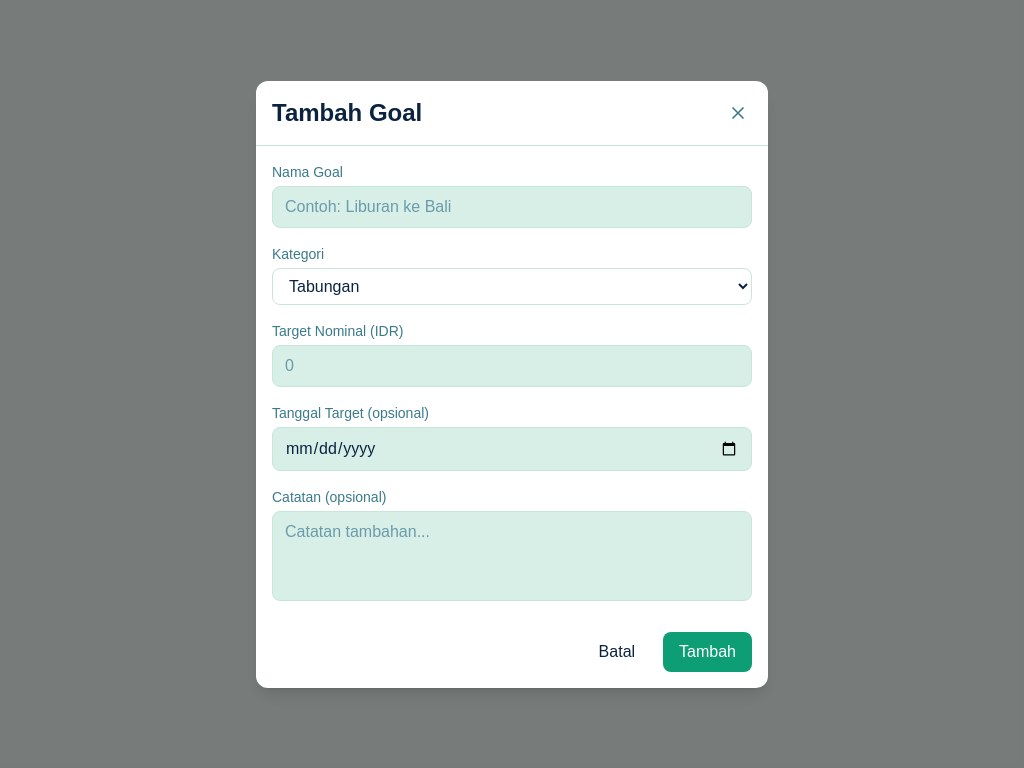
it: GoalForm › shows error when target_date is in the past
Step 1. Type "Test Goal" into the field labelled "Nama Goal" → point(512, 206), box [272,186,752,228]
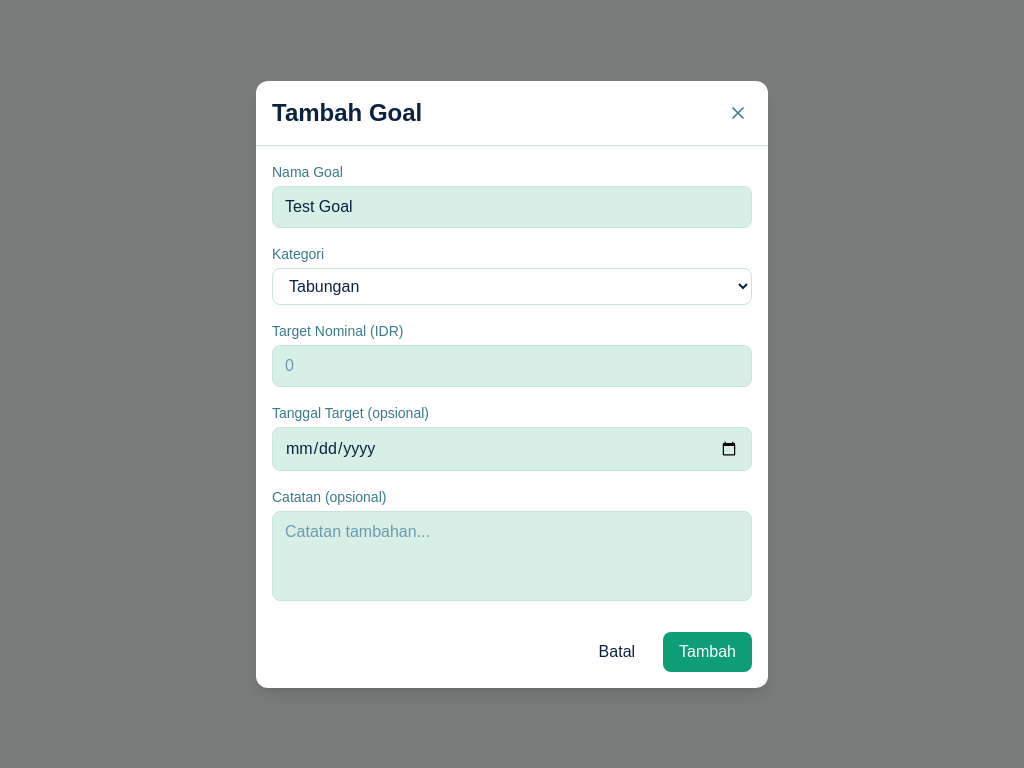
Step 2. Type "1000000" into the number field labelled "Target Nominal (IDR)" → point(512, 366), box [272,344,752,386]
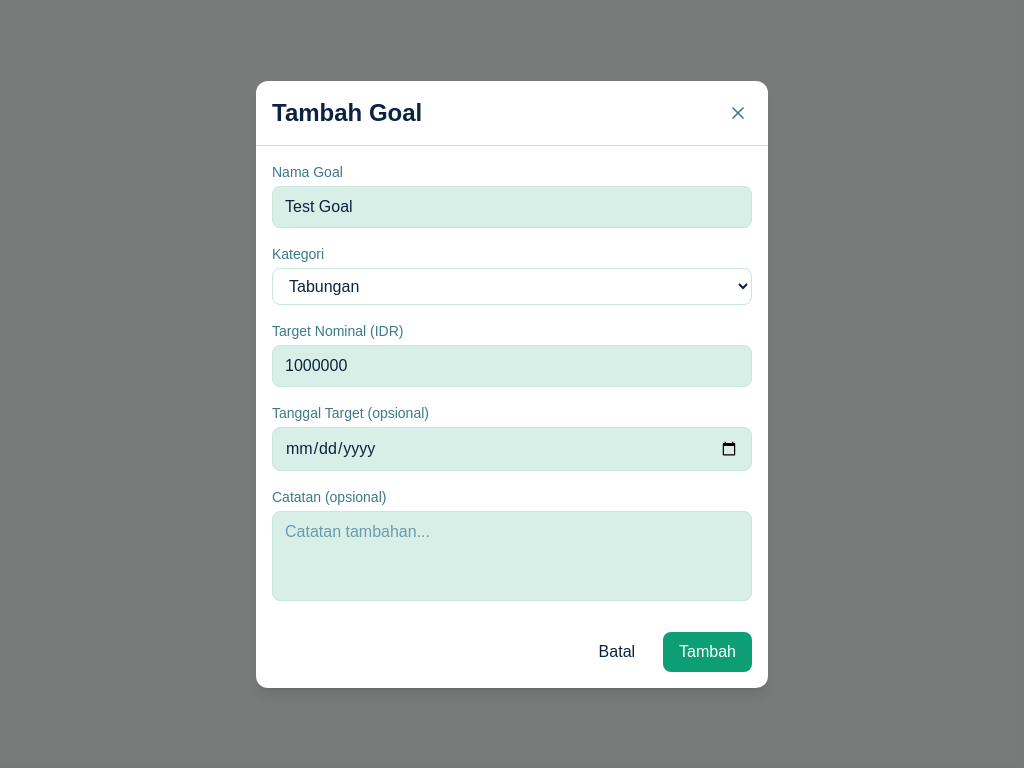
Step 3. Type "2020-01-01" into the date field labelled "Tanggal Target (opsional)" → point(512, 448), box [272,426,752,470]
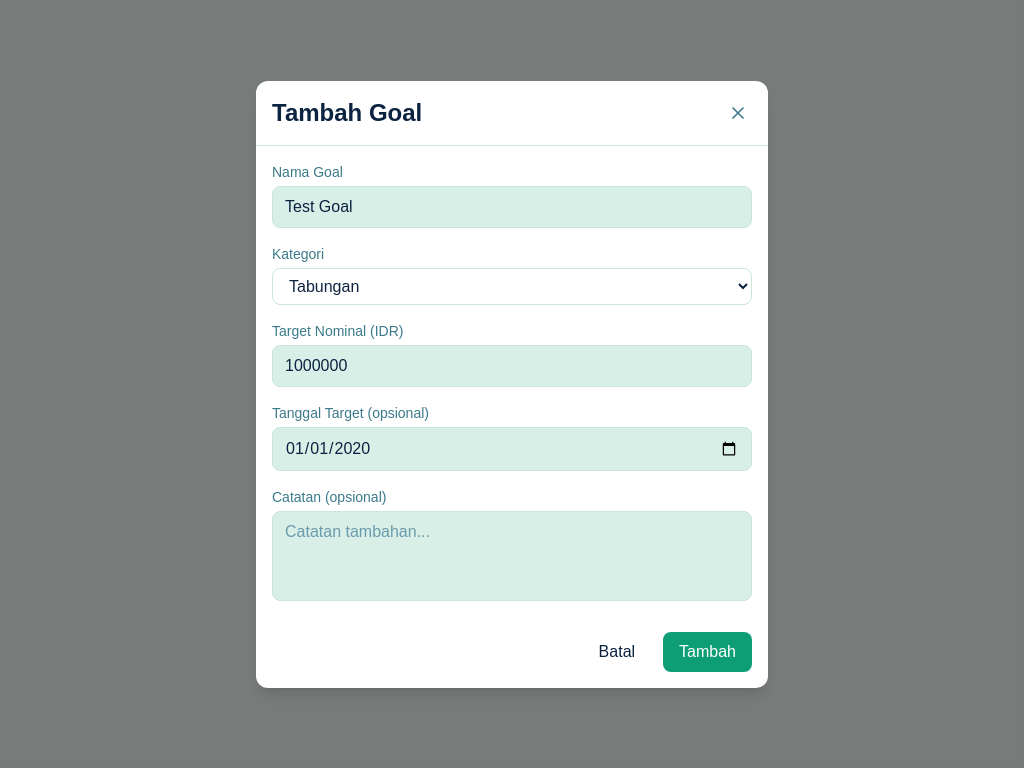
Step 4. Click the button "Tambah" → point(708, 652), box [663,632,752,672]
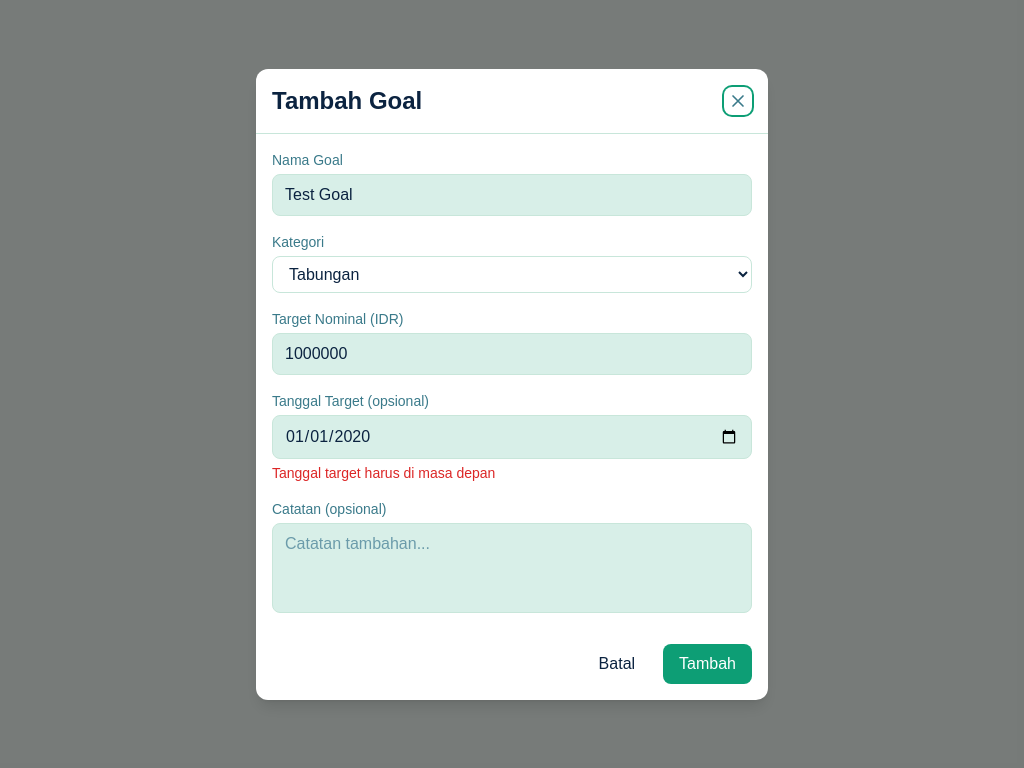
Expected: the text "Tanggal target harus di masa depan" is shown, [272,464,495,480]
